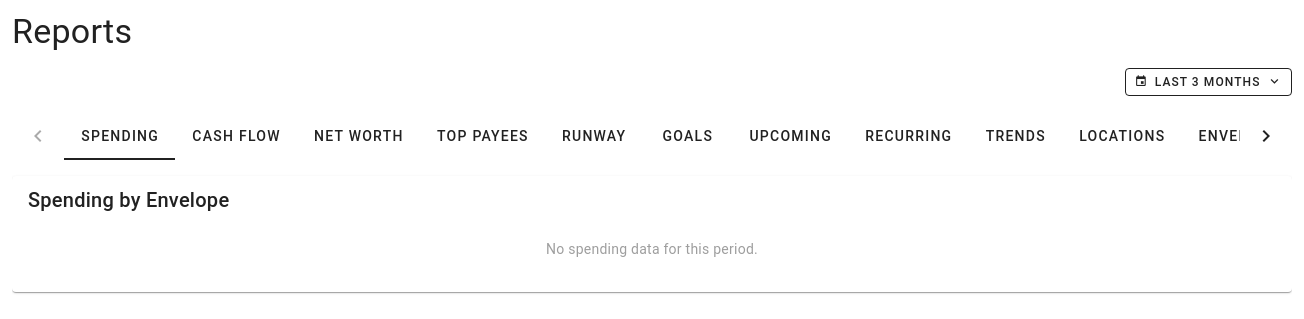
Test: ReportsView › Runway Tab › shows empty state when no data
Click the tab "Runway" at (594, 136), box [545, 112, 642, 160]
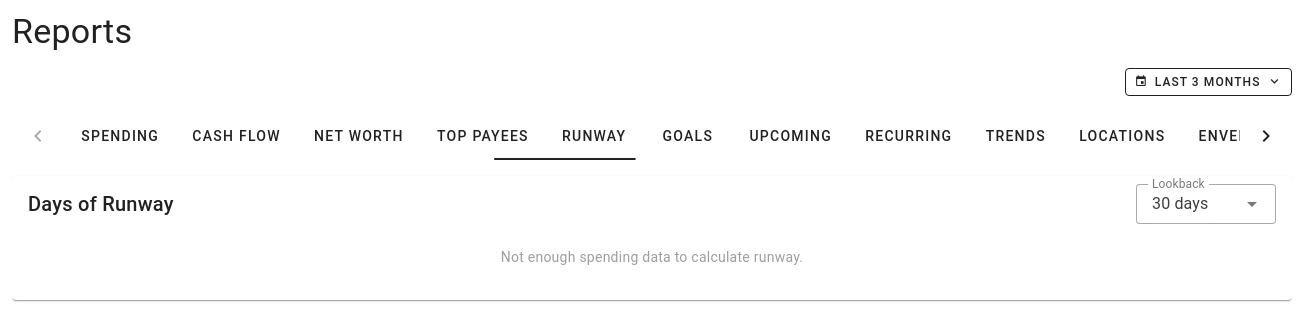
Expected: the text "Not enough spending data to calculate runway" is shown, [501, 249, 803, 265]
